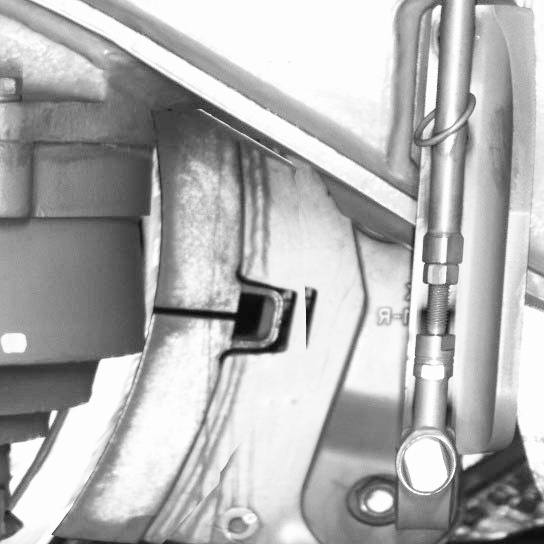ClosedKnifeSwitch: (31, 142, 264, 543)
